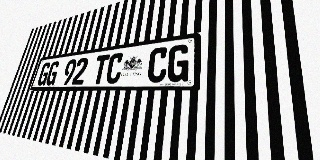2: (71, 57, 89, 85)
9: (61, 58, 78, 85)
C: (146, 46, 169, 83), (105, 52, 125, 84)
G: (166, 44, 190, 82), (45, 61, 61, 86), (36, 62, 52, 86)
T: (91, 54, 110, 84)
